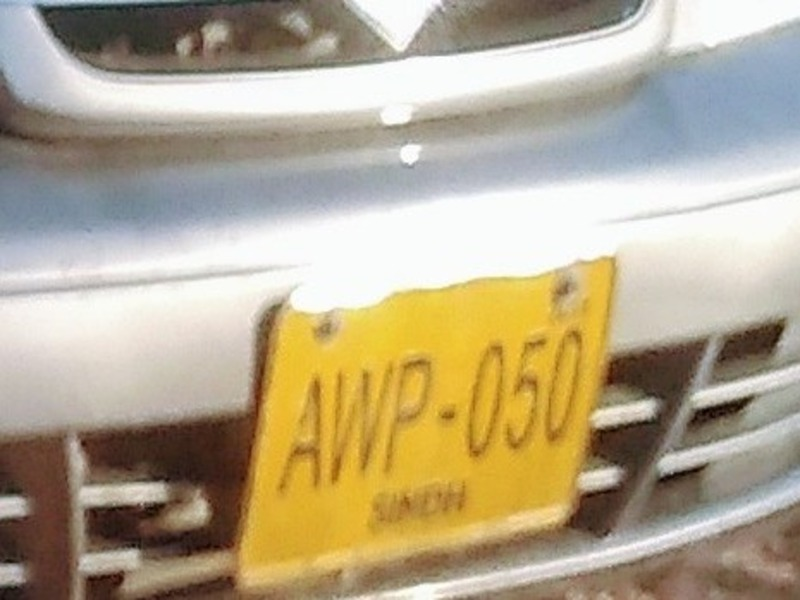License Plate: (251, 256, 616, 581)
